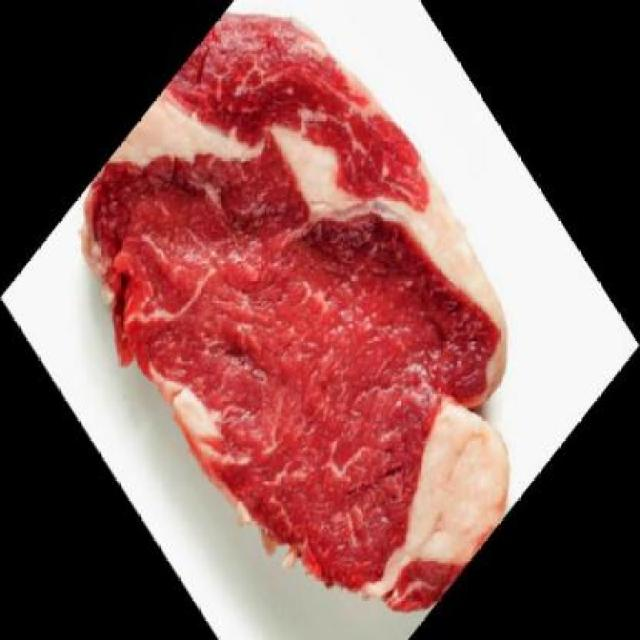beef: (41, 0, 589, 638)
